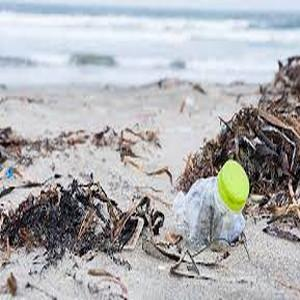Plastic: (162, 161, 254, 255)
